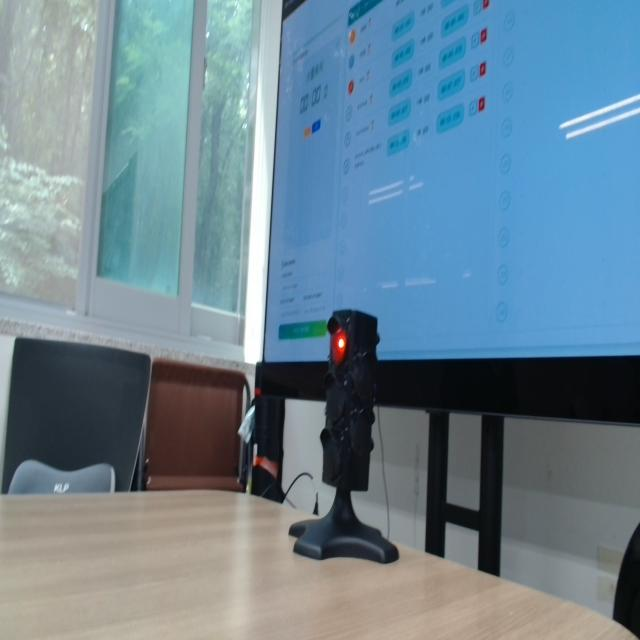red_light: (331, 329, 346, 366)
